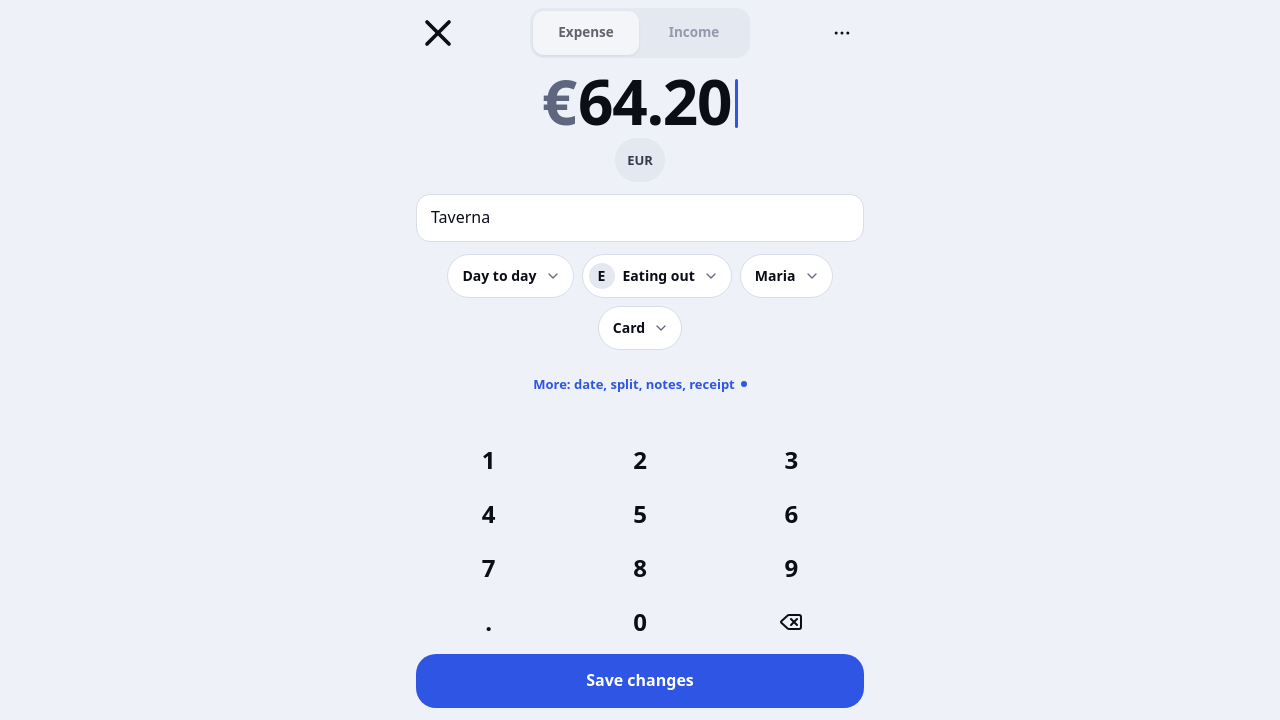
it: editing with another category asks about that entry
The width and height of the screenshot is (1280, 720).
Click the button with aria-label "Category:" at (657, 276), box [582,254,732,298]
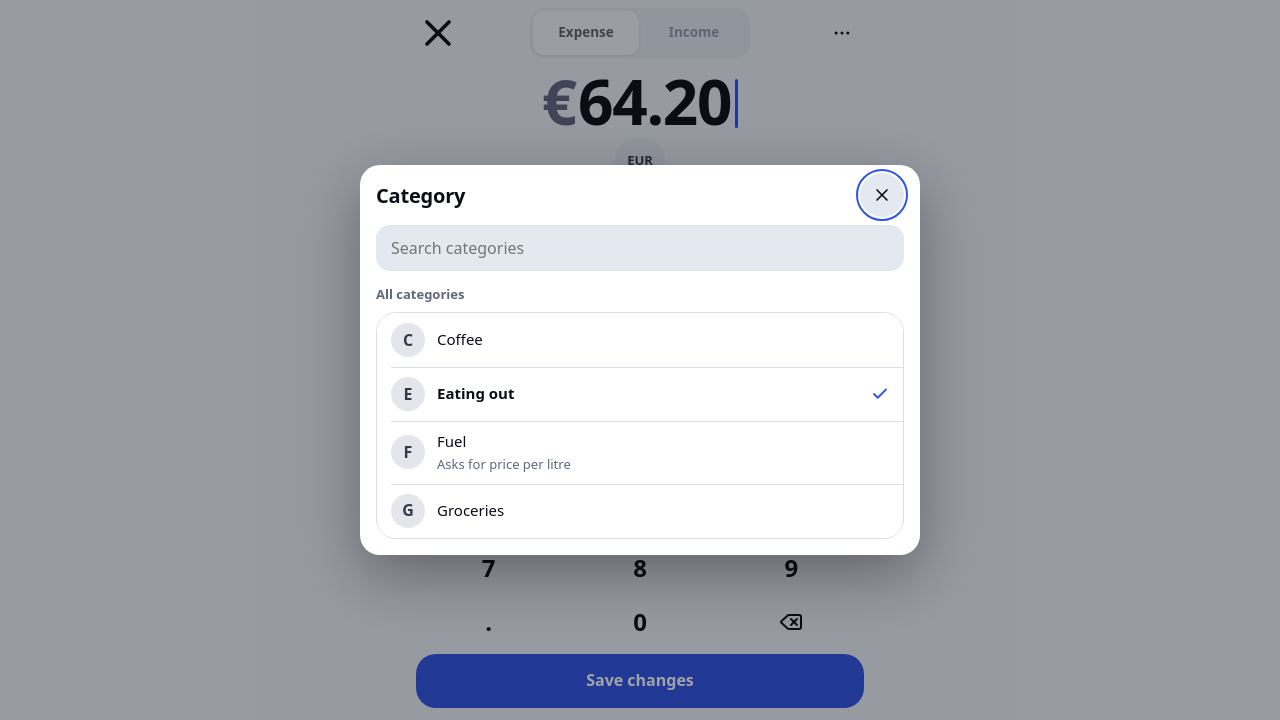
Click the button "G Groceries" at (408, 511), box [377,484,903,538]
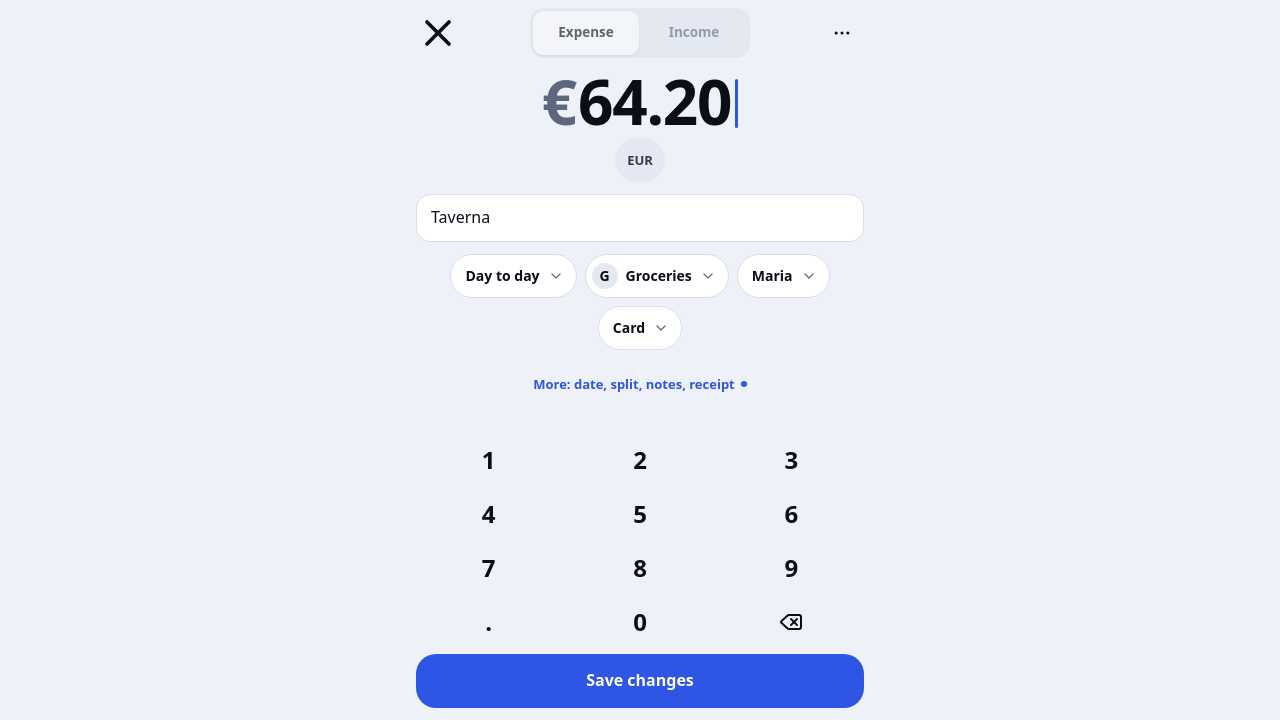
Click the button "Save changes" at (640, 681), box [416,654,864,708]
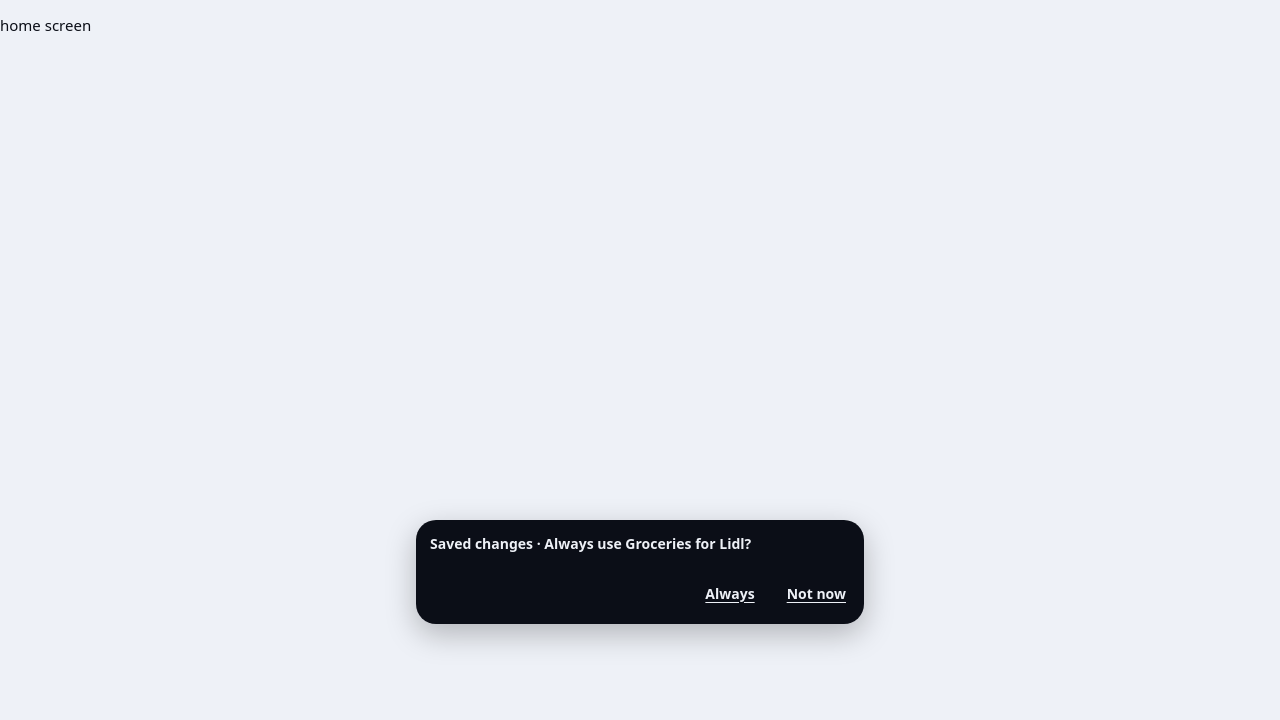
expect the text "home screen" is shown: met, box [0,15,91,35]
expect the text "Saved changes · Always use Groceries for Lidl?" is shown: met, box [430,534,751,553]
